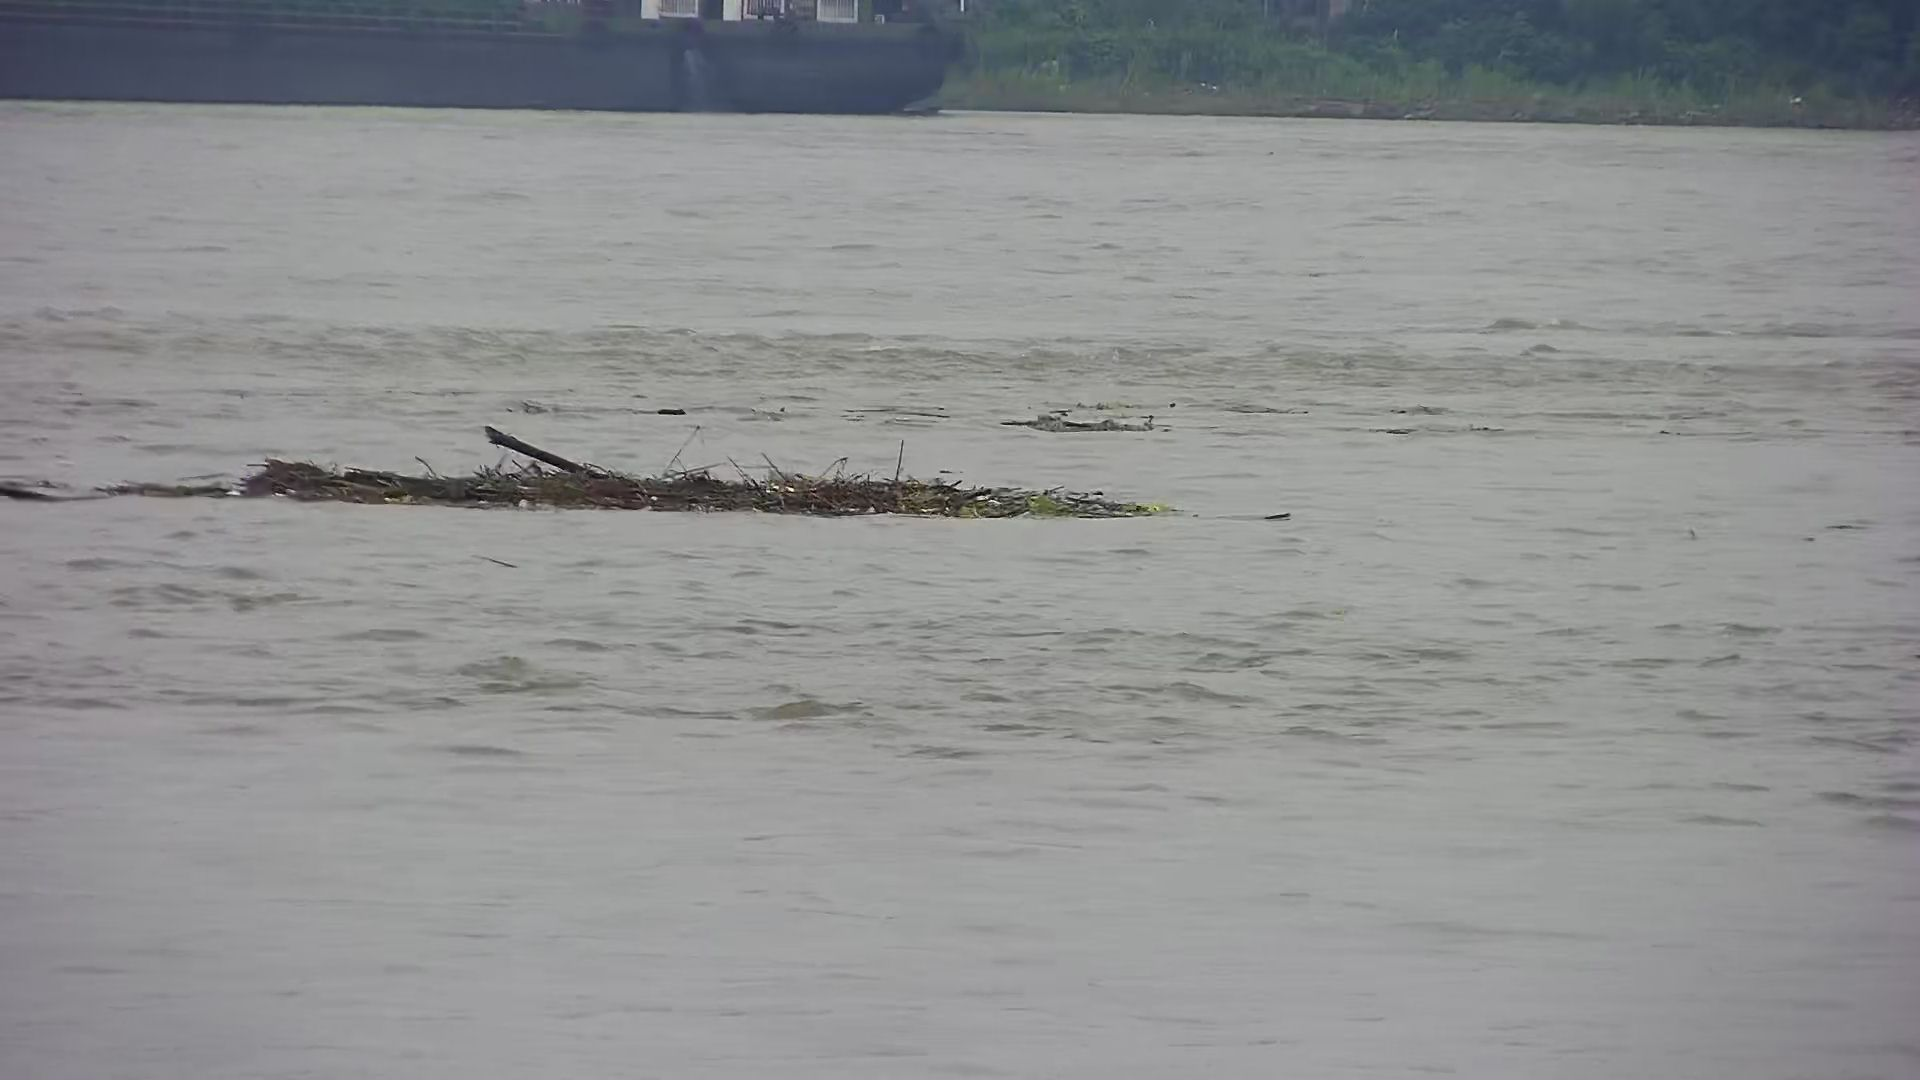grass: (129, 418, 1189, 522)
ship: (4, 3, 982, 125)
